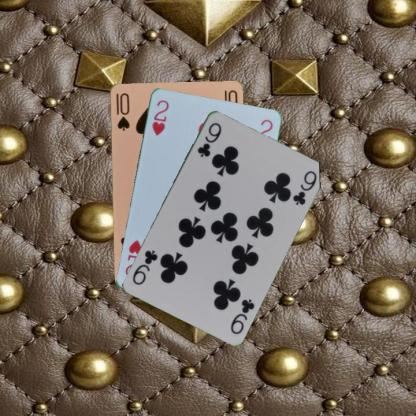10s: (113, 90, 130, 132)
2h: (149, 97, 170, 137)
9c: (228, 295, 256, 336), (195, 119, 223, 158)
